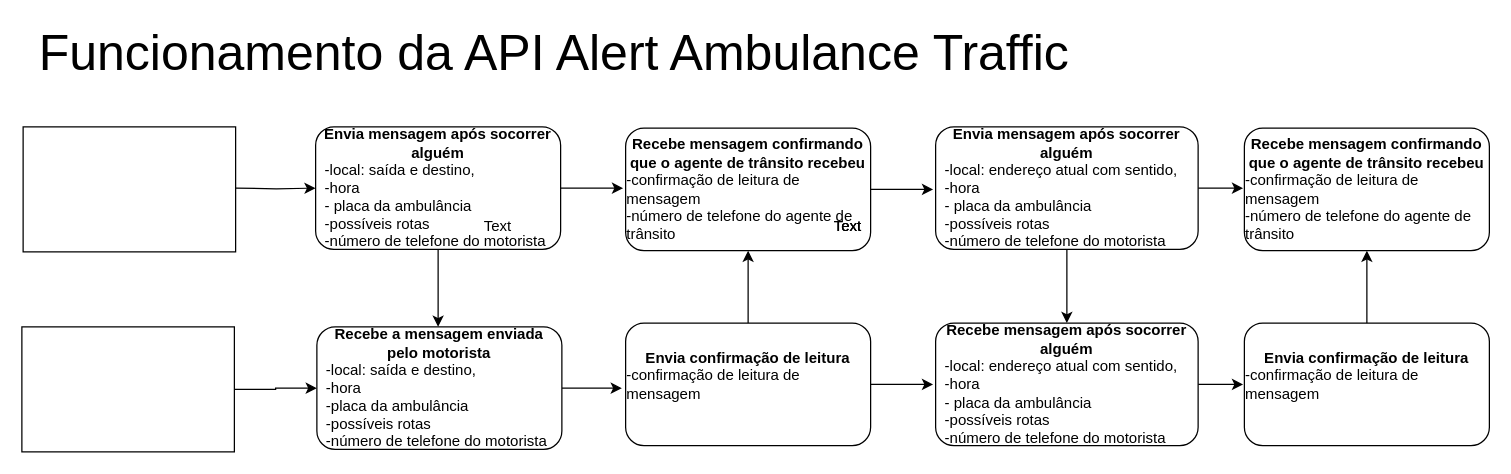
The diagram is 1511 pixels wide and 474 high, and some of its shapes have lost their labels. Each missing label, with the centre of its shape:
"Ambulance Login: driver@email.com" goes at pixel 129 189.
"Transit Agent Login: transitagent@email.com" goes at pixel 127 389.
